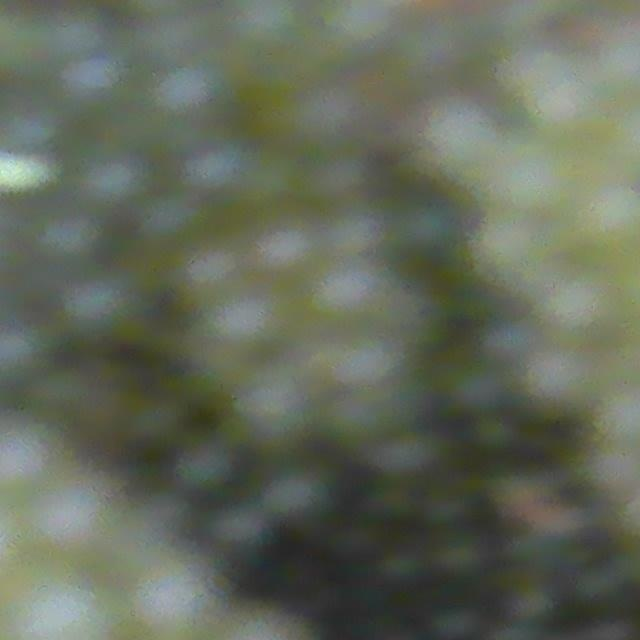SeaGrape: (406, 99, 502, 186), (519, 57, 605, 147), (197, 295, 292, 375), (487, 143, 578, 226), (130, 554, 216, 640), (5, 572, 113, 640), (519, 275, 614, 352), (31, 477, 120, 555), (473, 219, 554, 291), (308, 257, 389, 329), (76, 144, 148, 211), (575, 431, 640, 499), (582, 180, 640, 252), (323, 0, 396, 57), (157, 59, 226, 119), (523, 348, 583, 416)
